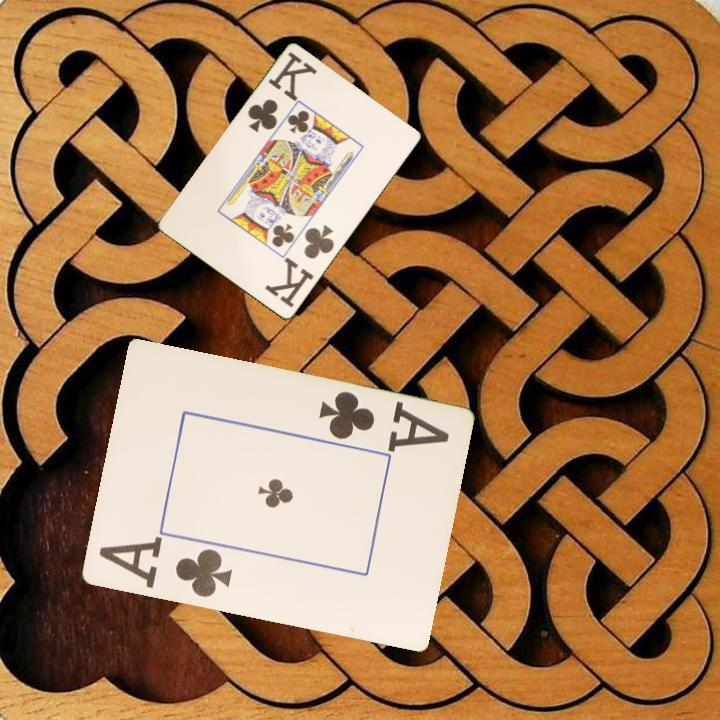Ac: (95, 535, 235, 601), (314, 388, 452, 454)
Kc: (262, 221, 337, 311), (244, 48, 319, 136)
